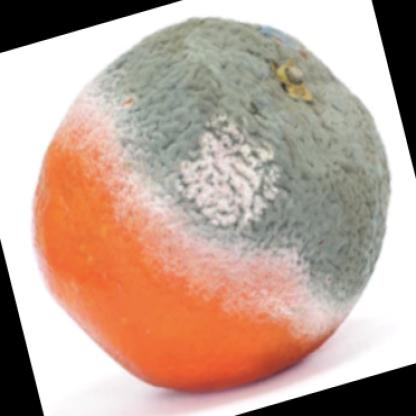rotten: (37, 20, 389, 392)
